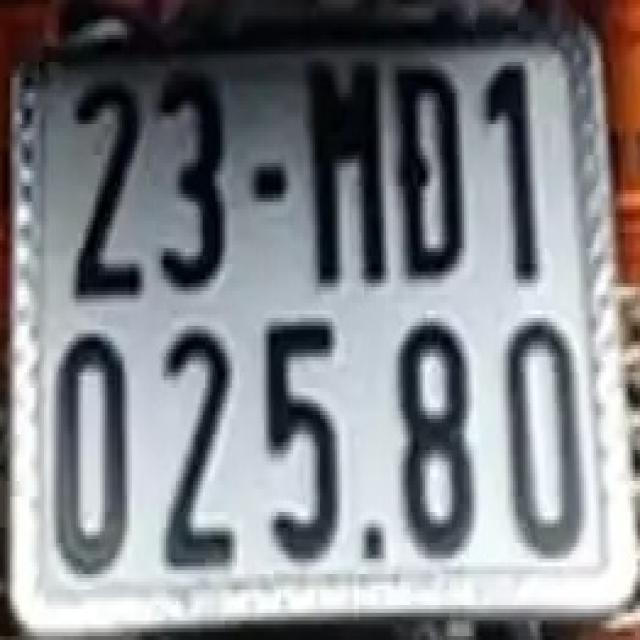0: (49, 326, 132, 574), (506, 311, 586, 558)
1: (481, 58, 545, 283)
2: (159, 318, 237, 566), (69, 70, 144, 295)
3: (154, 62, 230, 291)
5: (259, 310, 344, 562)
8: (396, 311, 476, 558)
D: (391, 62, 466, 275)
M: (303, 54, 388, 283)
